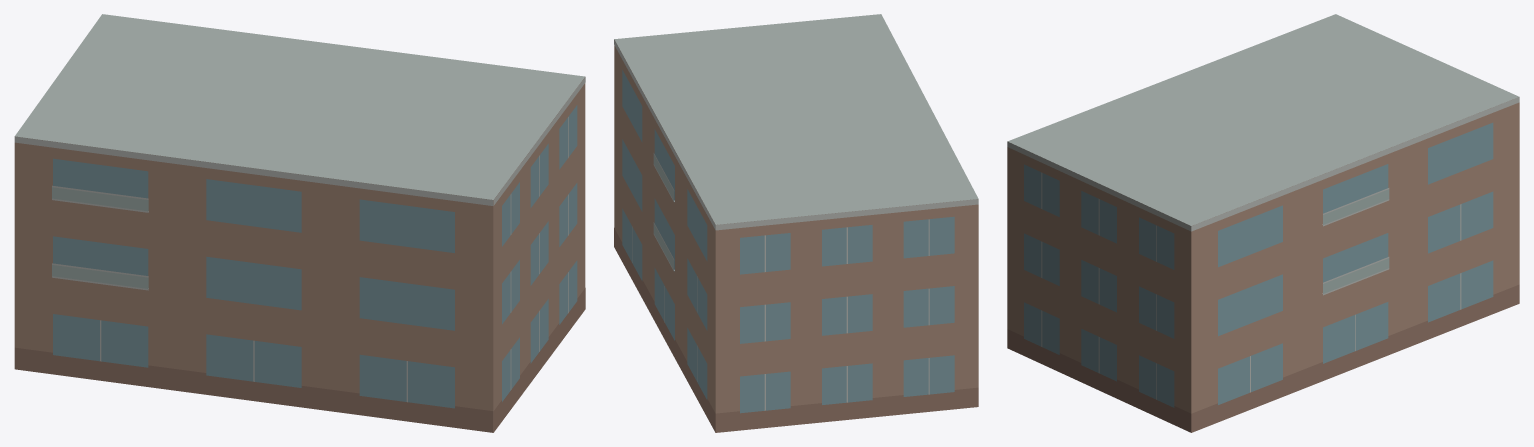
The model's file is survey-upis-32648307.glb.
3 views of the same model, side by side, from view 1: azimuth 30°, elevation 25°; view 2: azimuth 150°, elevation 25°; view 3: azimuth 270°, elevation 25° (orthographic). The views are drawn at different scales.
Parts seen in each view (by area): view 1: survey-upis-32648307.tmp; view 2: survey-upis-32648307.tmp; view 3: survey-upis-32648307.tmp.
Boxes of the visible parts, x1=… form: survey-upis-32648307.tmp: x1=14, y1=14, x2=585, y2=432; survey-upis-32648307.tmp: x1=614, y1=14, x2=978, y2=432; survey-upis-32648307.tmp: x1=1007, y1=14, x2=1519, y2=432.
Size of the model in its own units: 20.13 by 9.15 by 20.54.
